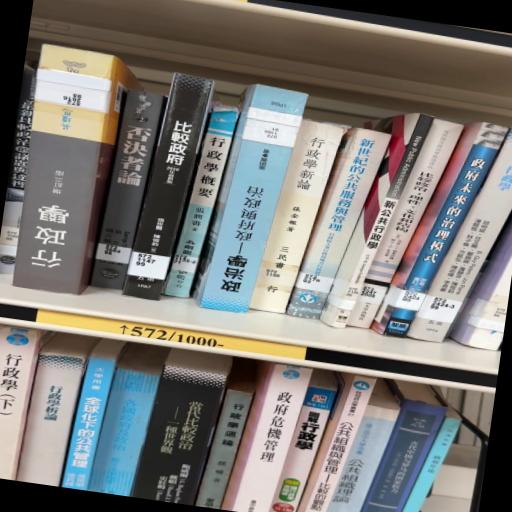reverse: (11, 45, 139, 295), (195, 86, 308, 314)
